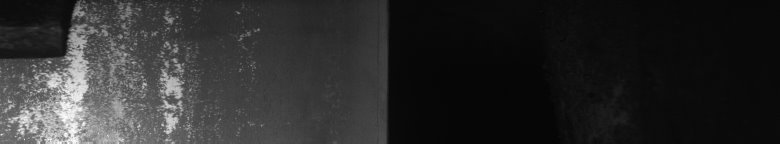kb: (4, 4, 260, 136)
